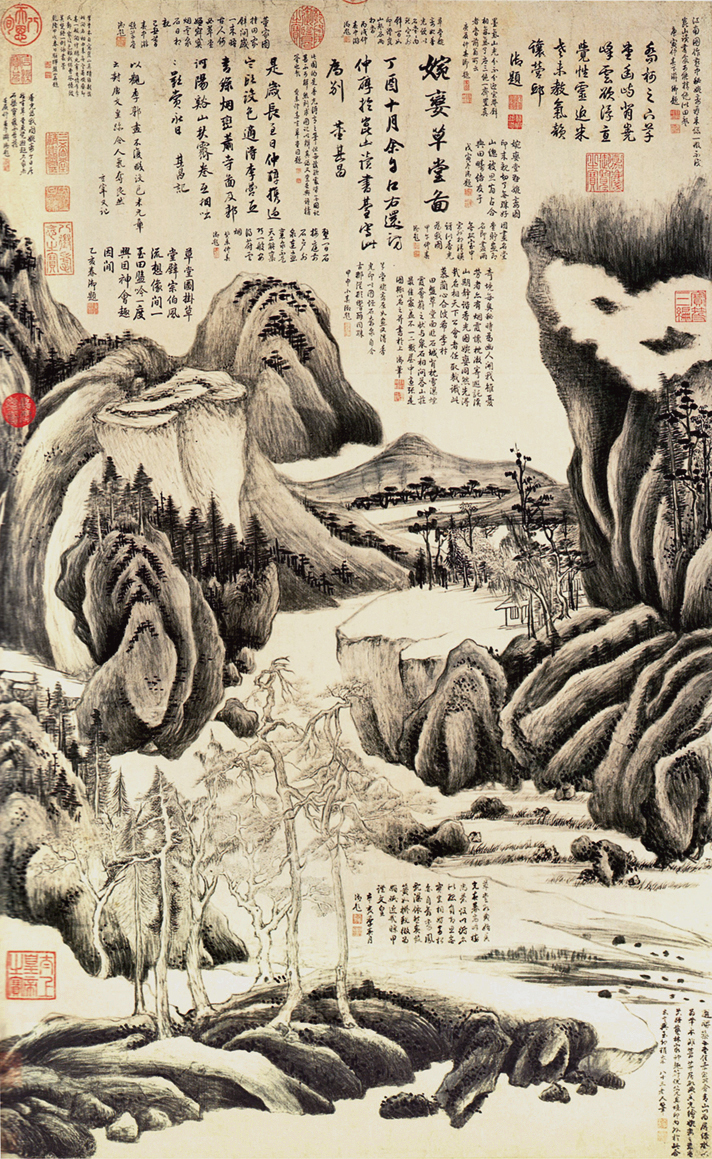hill: (29, 1021, 550, 1110)
house: (503, 592, 525, 634)
mountain: (581, 414, 658, 781), (10, 342, 76, 650), (552, 263, 712, 370), (102, 353, 241, 472), (442, 667, 577, 776), (98, 555, 174, 716), (672, 646, 712, 831), (251, 373, 366, 435), (2, 236, 48, 350), (353, 446, 476, 477), (207, 293, 266, 357), (274, 286, 321, 319), (269, 444, 323, 465)
pine: (103, 479, 266, 572), (50, 708, 108, 797), (8, 691, 88, 719), (8, 768, 69, 797), (86, 482, 103, 536), (277, 321, 309, 342)
tree: (261, 698, 365, 986), (141, 807, 230, 1009), (551, 207, 705, 265), (428, 525, 561, 584), (74, 830, 130, 968), (229, 756, 257, 995), (667, 395, 712, 525), (535, 577, 568, 630)
